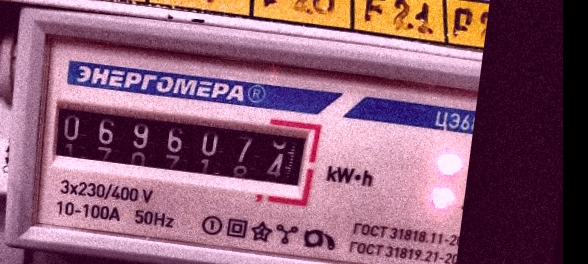0: (198, 126, 220, 158), (60, 111, 81, 142)
4: (264, 150, 284, 180)
6: (94, 115, 117, 145), (163, 124, 185, 155)
7: (233, 133, 254, 165)
9: (129, 120, 149, 150)
screen: (33, 82, 327, 206)
